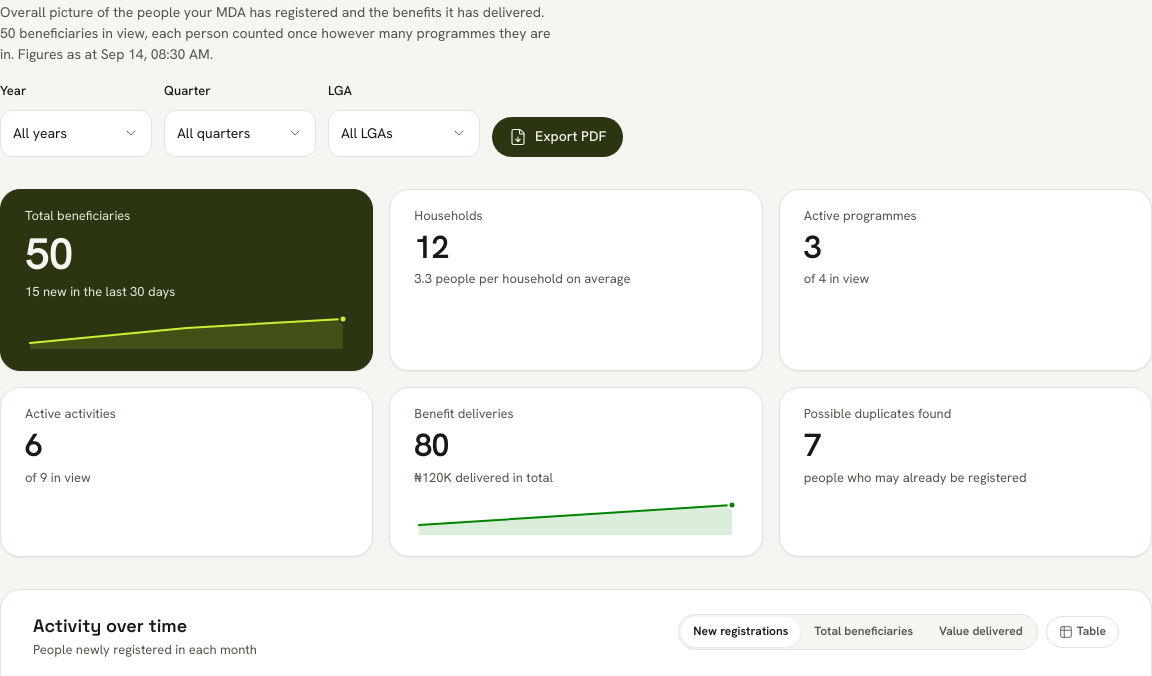
it: MdaReportsDashboard › gives every chart a table view
The width and height of the screenshot is (1152, 676).
Click the button with aria-label "Show Activity over time as a table": (1082, 632) [1046,616,1119,648]
(page scrolled)
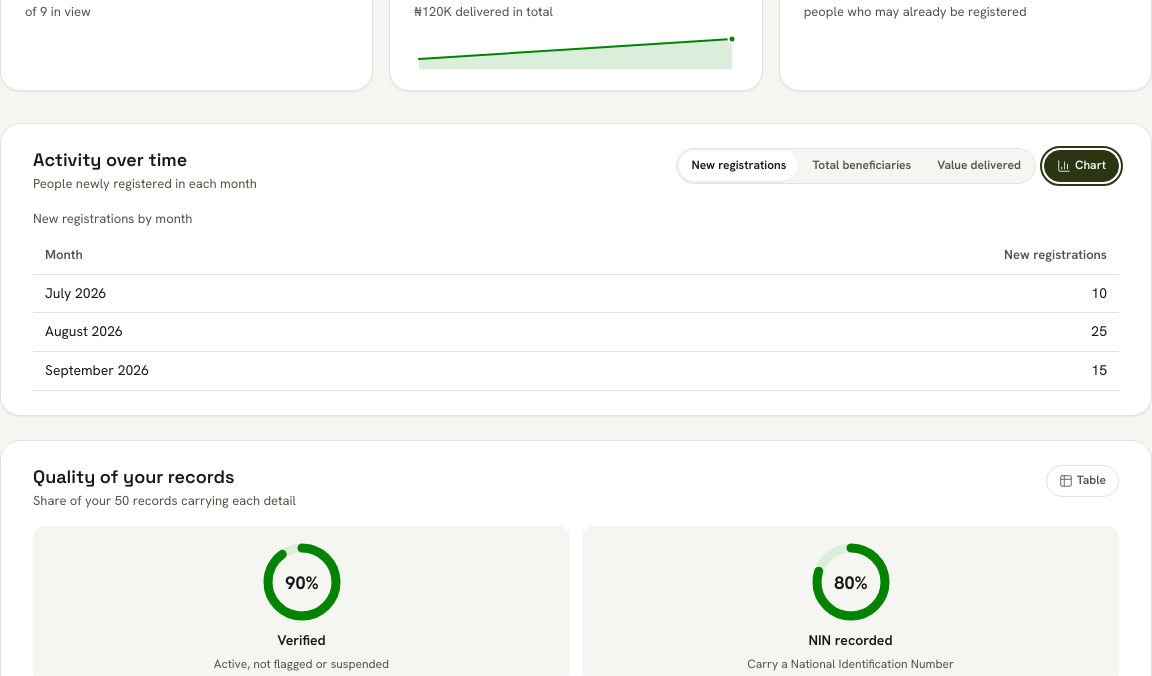
Expected: the number of rows is 4, [33,237,1119,274]; [33,274,1119,313]; [33,313,1119,351]; [33,351,1119,390]
Expected: the text "August 2026" is shown, [33,313,578,351]
